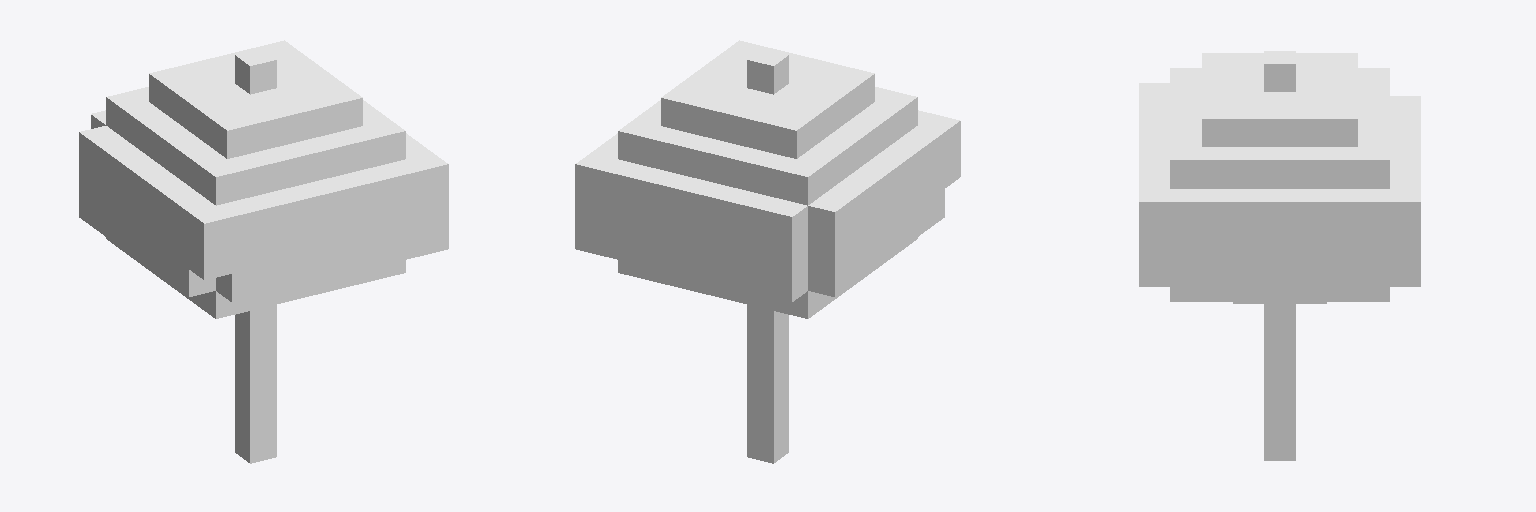
File: Rotten.obj
3 views of the same model, side by side, from view 1: azimuth 30°, elevation 25°; view 2: azimuth 150°, elevation 25°; view 3: azimuth 270°, elevation 25° (orthographic).
Visible parts, largest first — view 1: object 1; view 2: object 1; view 3: object 1.
Boxes of the visible parts, box(x1,y1,x2,y2) form: object 1: box(79, 40, 448, 463); object 1: box(575, 40, 960, 463); object 1: box(1139, 51, 1420, 460).
Size of the model in its own units: 0.9 by 1.4 by 0.9.